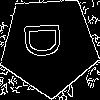D: (24, 20, 70, 59)
